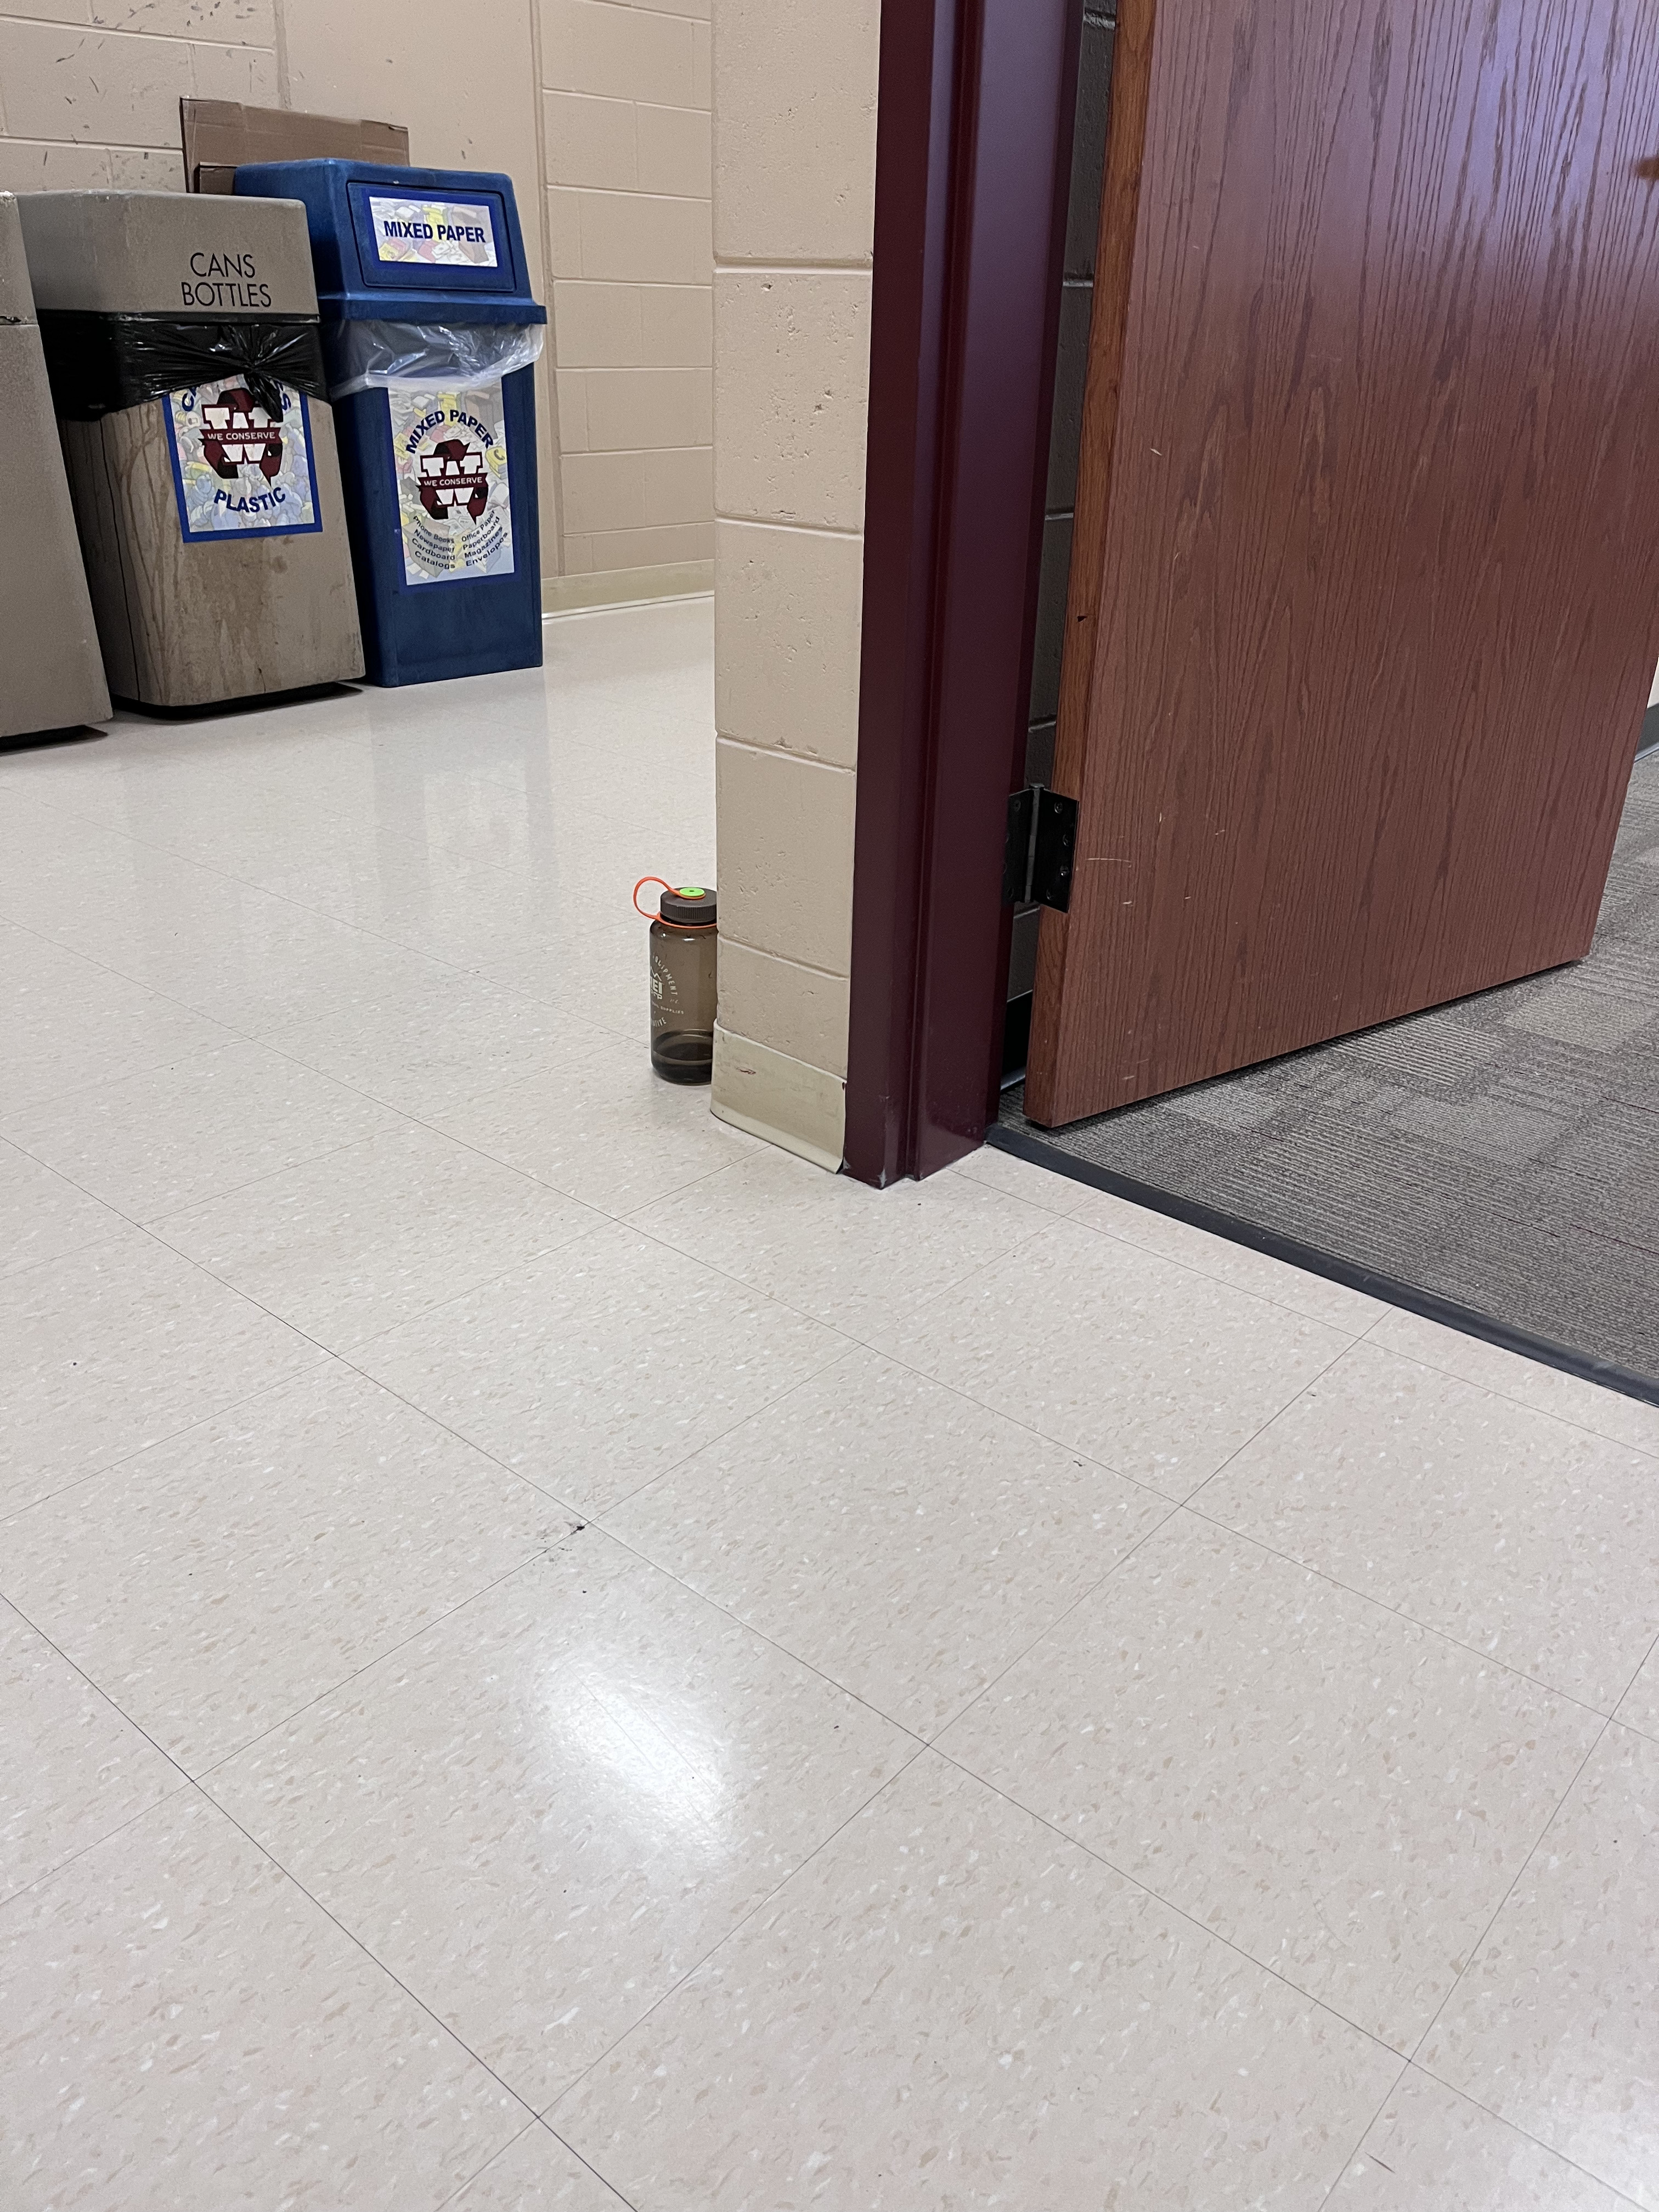bottle: (629, 867, 720, 1090)
